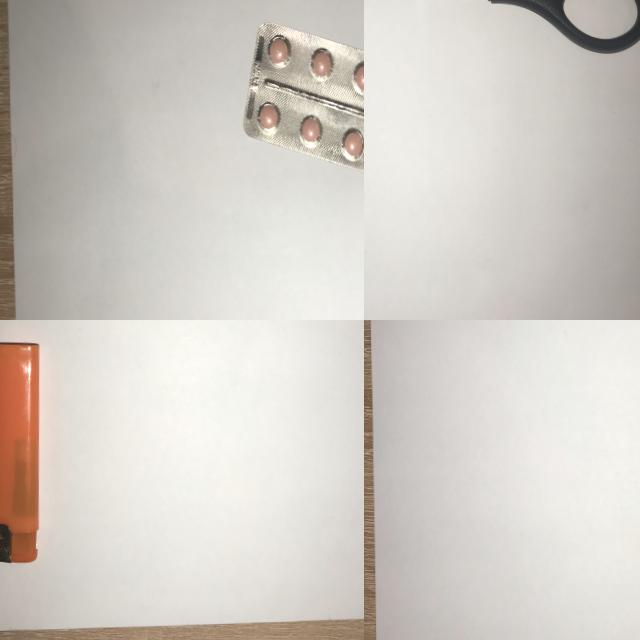lighter: (0, 331, 50, 570)
scissors: (364, 0, 640, 70)
tablets: (229, 9, 364, 208)
